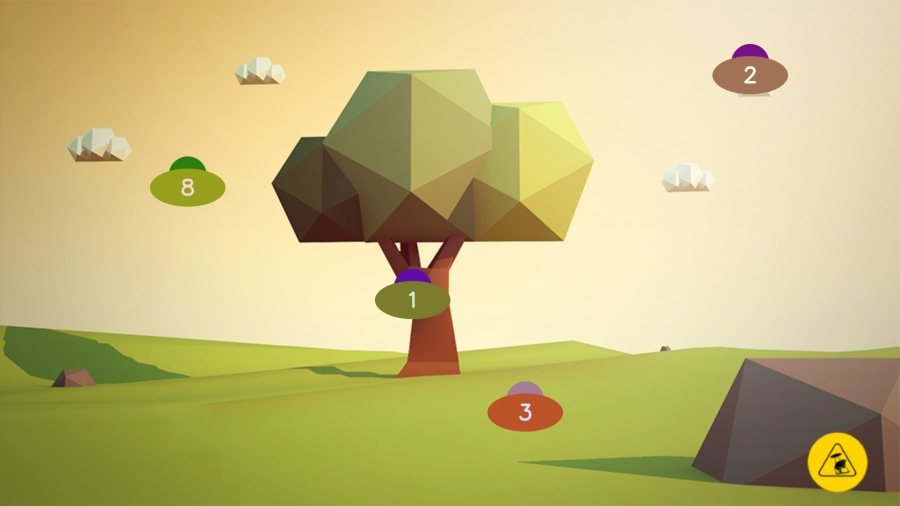ufo: (149, 155, 226, 207), (712, 43, 789, 95), (374, 269, 452, 320), (487, 381, 564, 432)
